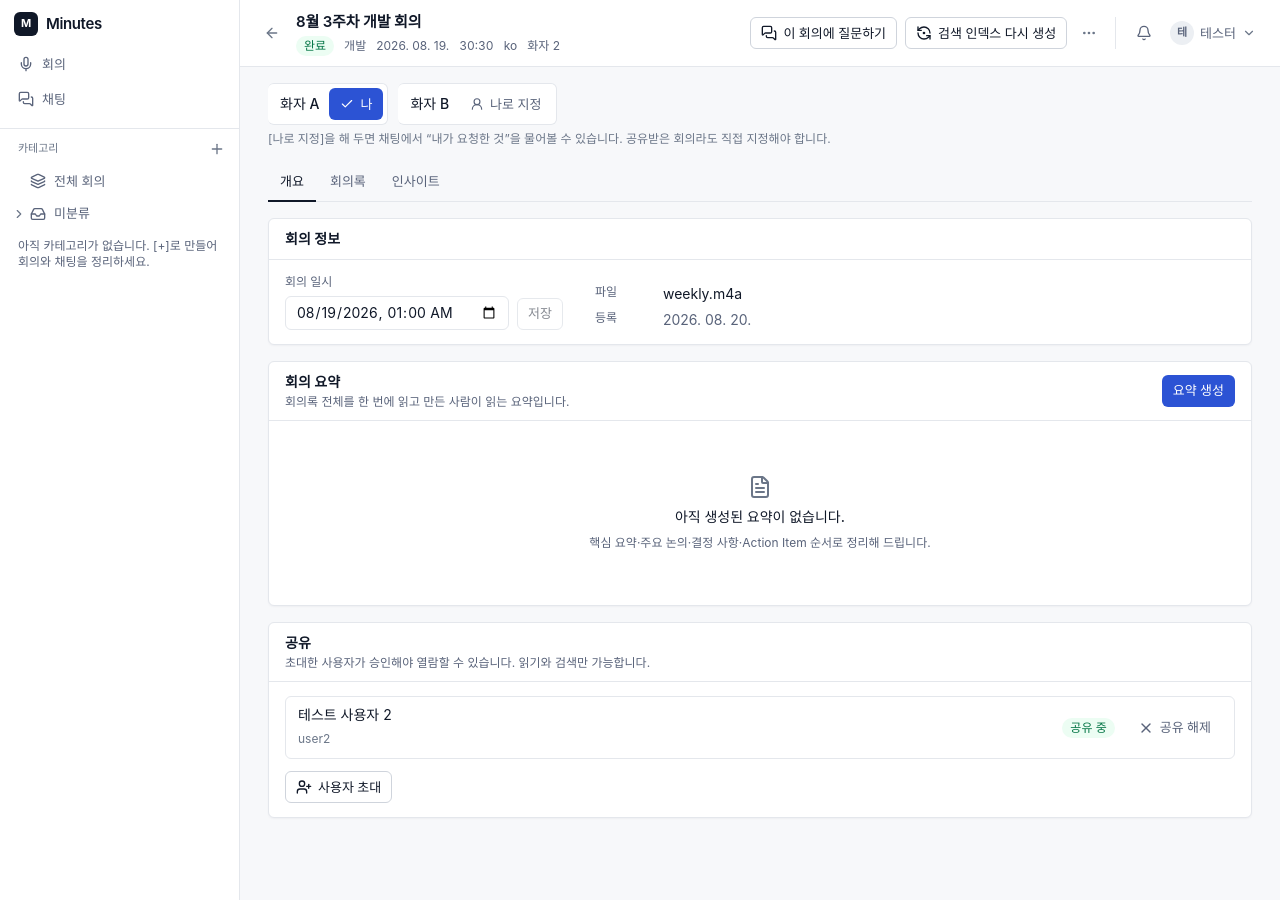
Test: 공유 관리 (소유자) › 공유 중인 회의를 삭제하기 전에 몇 명이 접근을 잃는지 말한다
Click the button named "8월 3주차 개발 회의 관리 메뉴" at (1089,33), box 1075,19 -> 1103,47
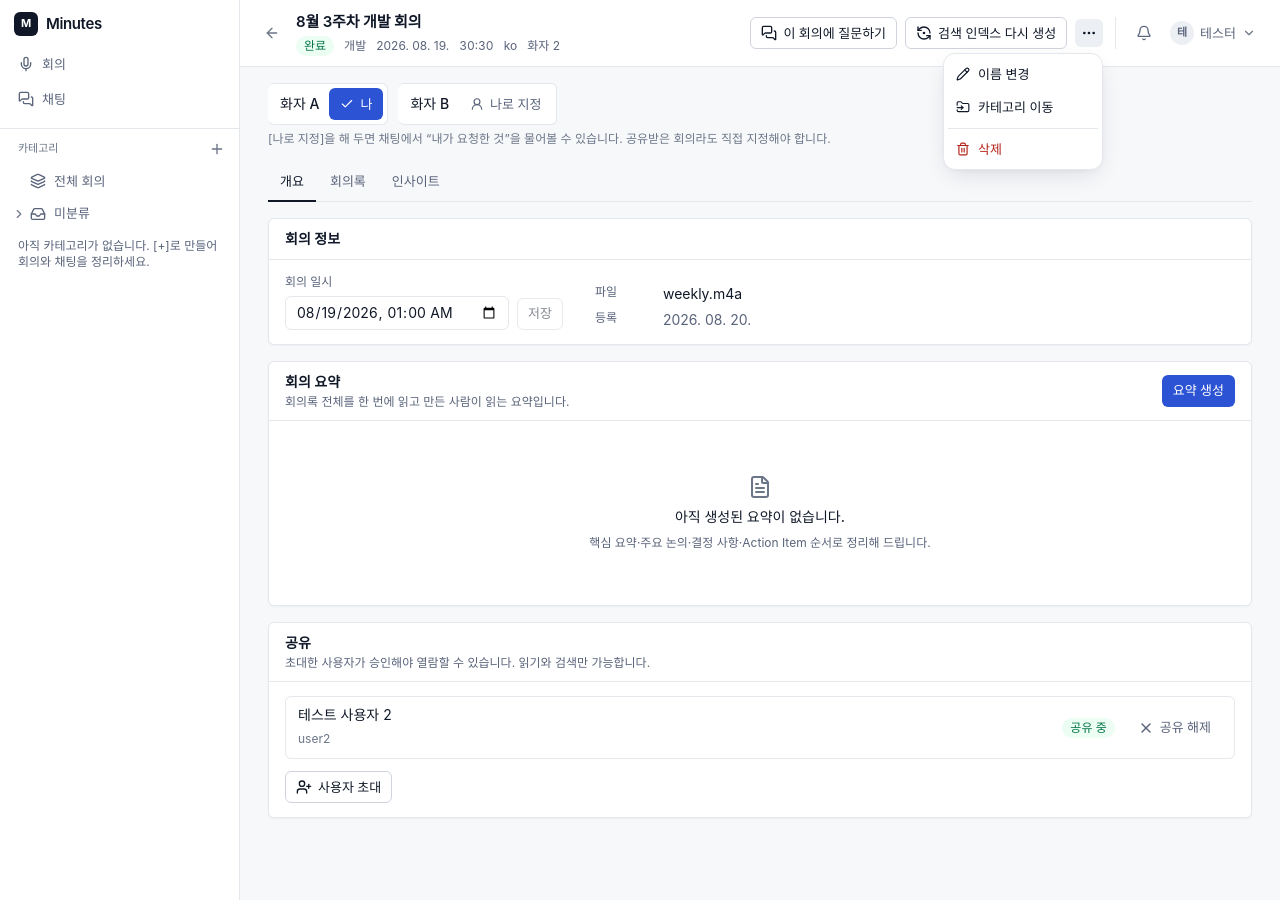
Click the menu item "삭제" at (979,149), box 956,141 -> 1002,157
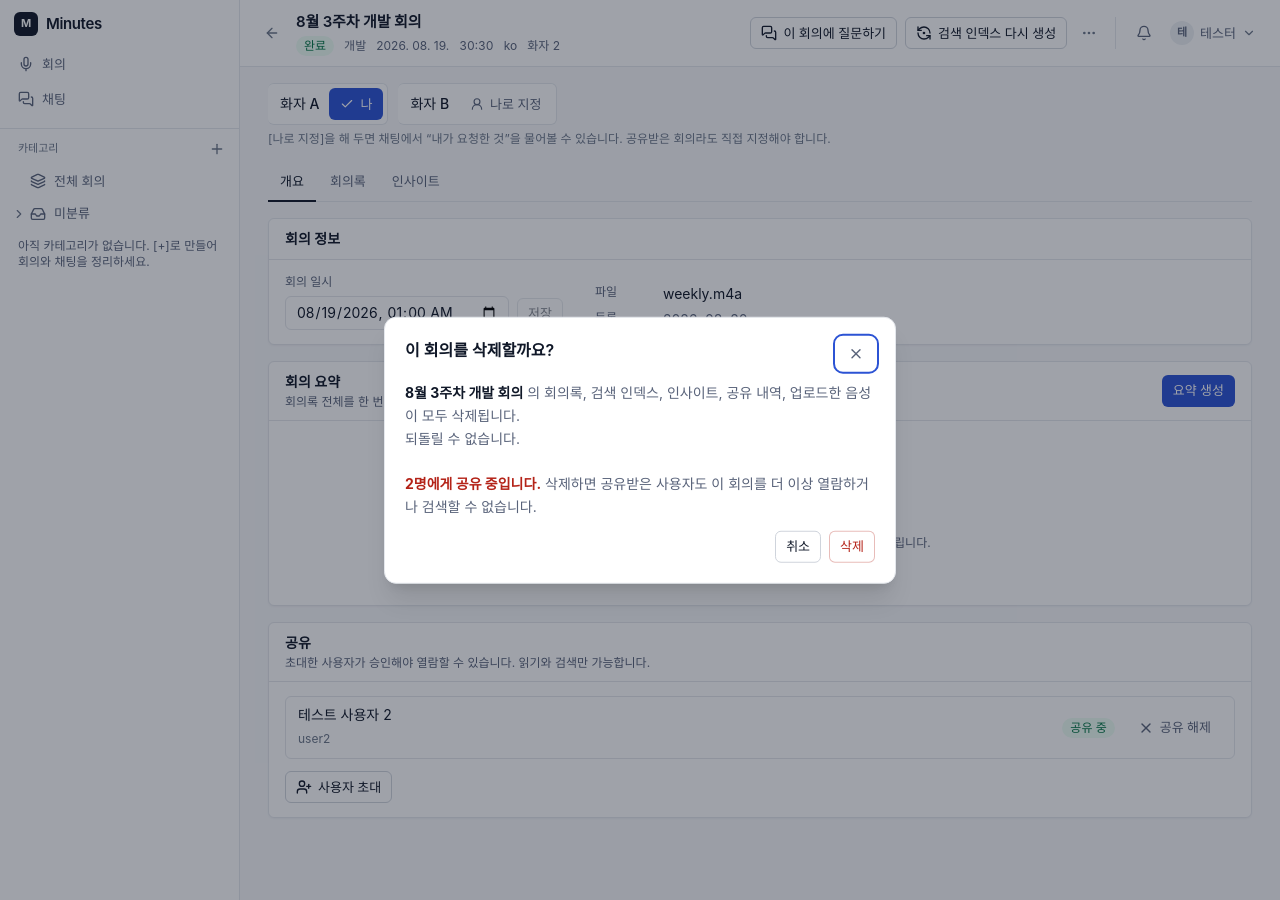
Expected: the text "2명에게 공유 중입니다." is shown, 405,475 -> 541,492
Expected: the text "더 이상 열람하거나 검색할 수 없습니다" is shown, 405,475 -> 869,515
